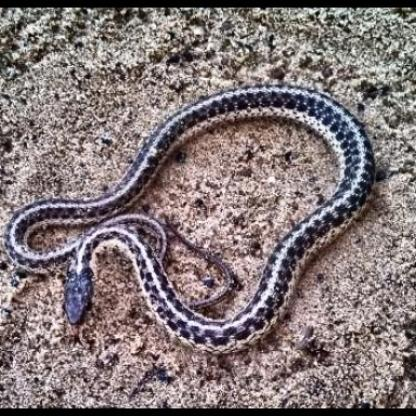Snake: (0, 83, 374, 359)
